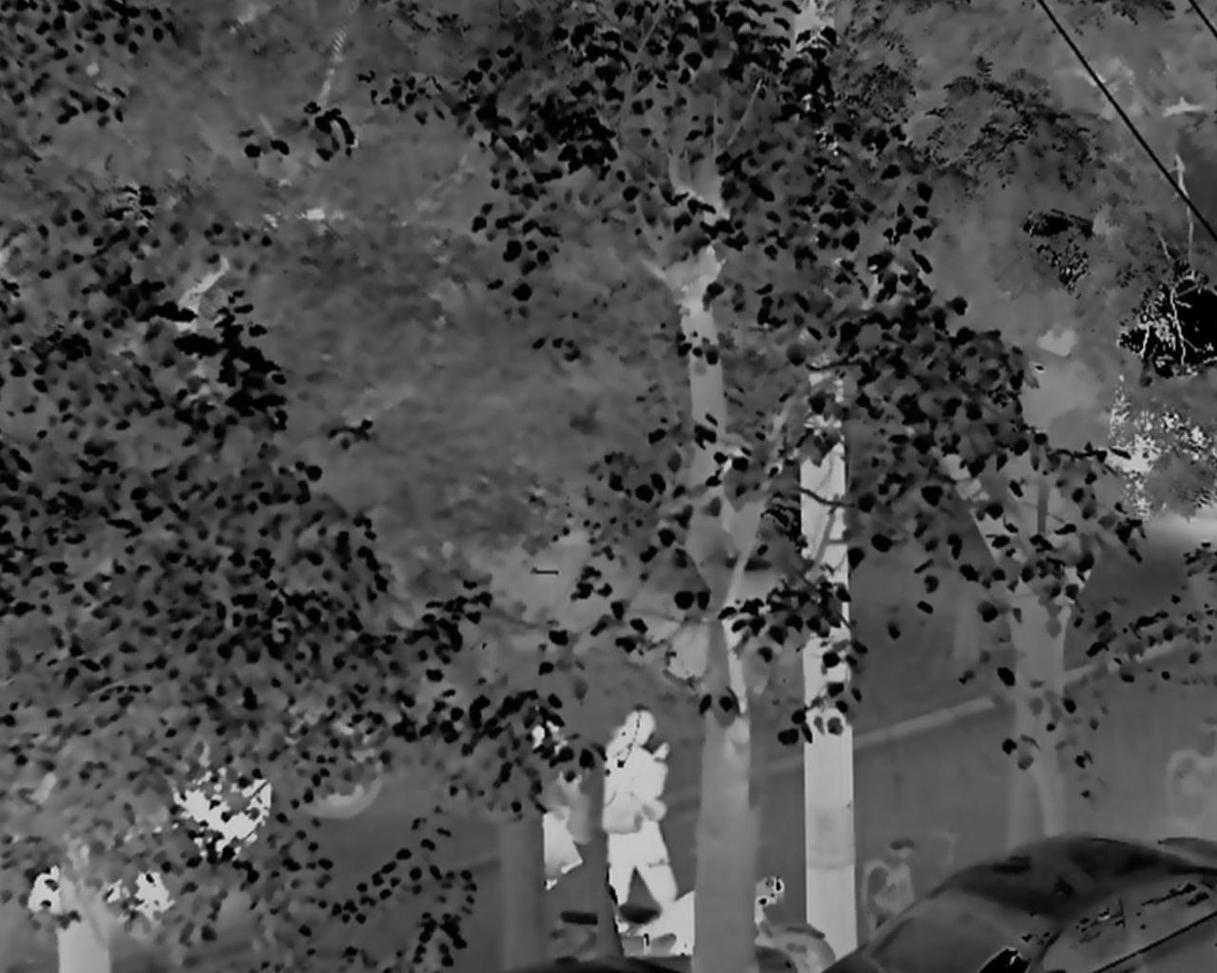person: (601, 703, 679, 932), (531, 719, 590, 890)
